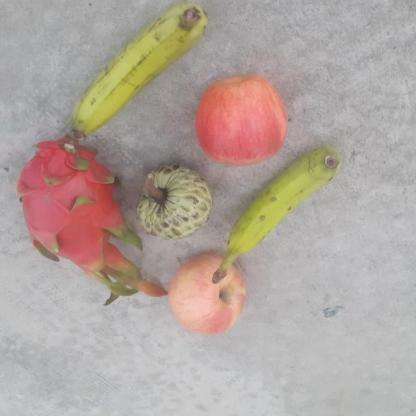annona: (132, 159, 212, 241)
apple: (192, 70, 289, 166), (166, 252, 248, 336)
banana: (66, 1, 211, 141), (210, 148, 346, 286)
pitaya: (1, 132, 129, 276)
